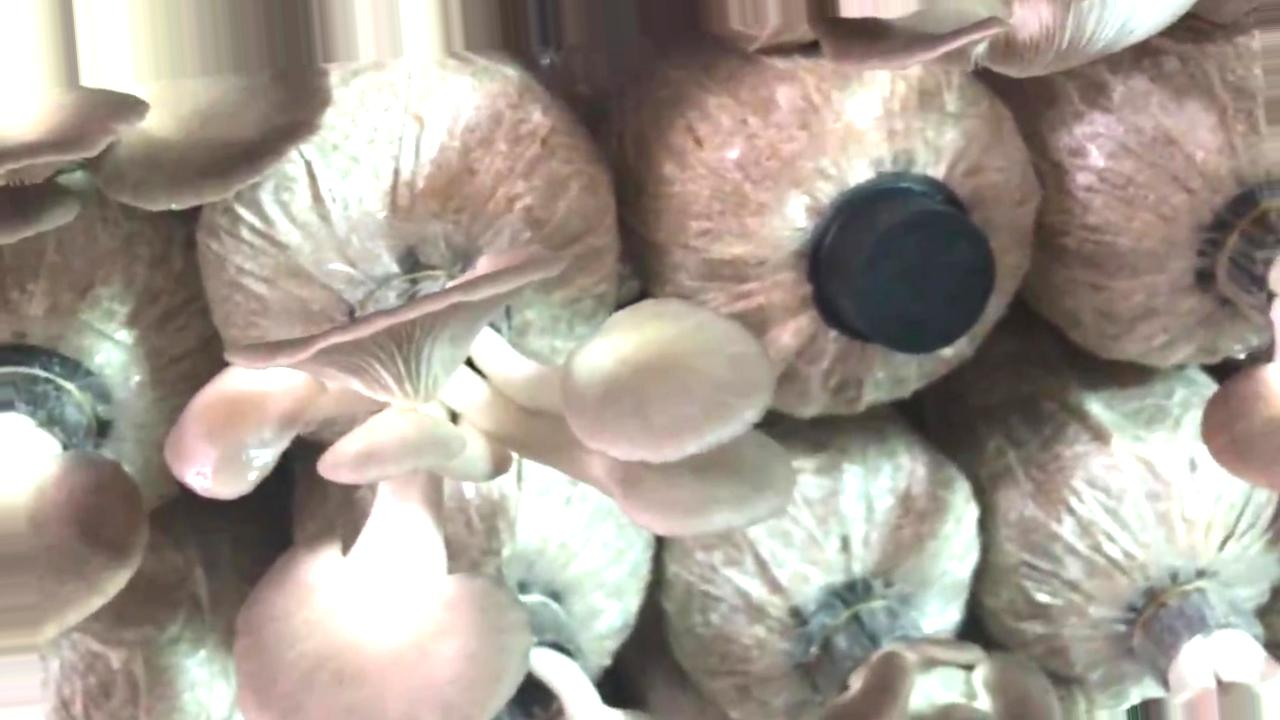nam: (166, 237, 802, 720)
